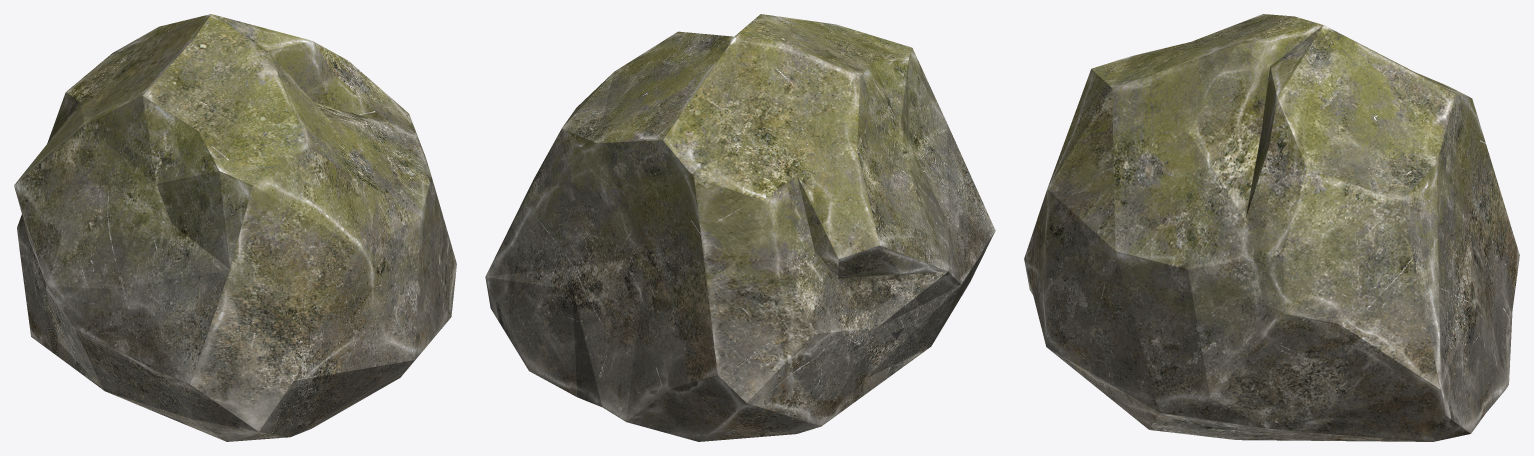
File: stone.fbx
3 views of the same model, side by side, from view 1: azimuth 30°, elevation 25°; view 2: azimuth 150°, elevation 25°; view 3: azimuth 270°, elevation 25° (orthographic). The views are drawn at different scales.
Visible parts, largest first — view 1: stone:stone_lp; view 2: stone:stone_lp; view 3: stone:stone_lp.
Boxes of the visible parts, x1,y1,x2,y2 form: stone:stone_lp: [14, 14, 456, 441]; stone:stone_lp: [485, 14, 995, 441]; stone:stone_lp: [1024, 14, 1519, 441].
Size of the model in its own units: 177 by 152 by 186.
1 material, 1 textured.
